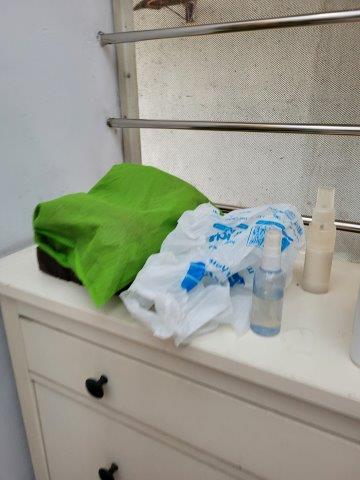plastik: (121, 203, 305, 339)
